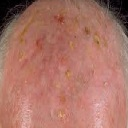Actinic: (54, 10, 103, 48), (22, 30, 45, 50)
